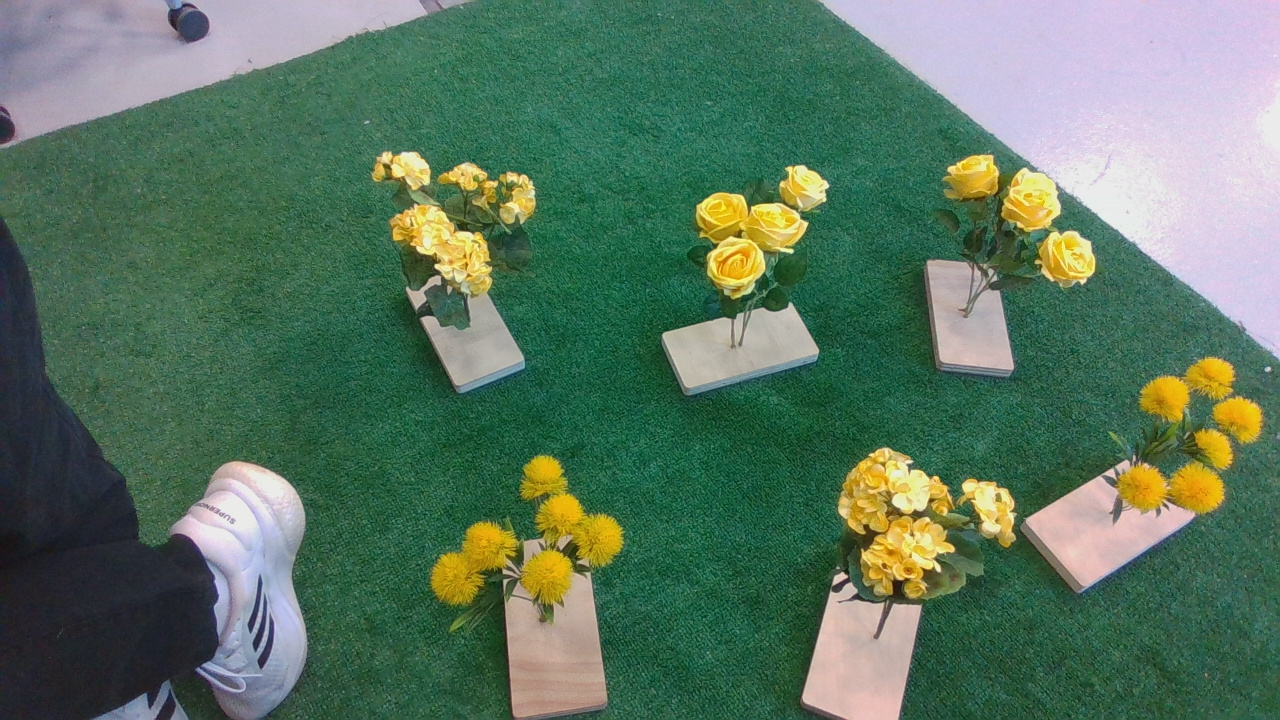dandelion: (427, 455, 639, 660), (1115, 346, 1278, 524)
geranium: (362, 146, 552, 338), (823, 447, 1029, 624)
rose: (932, 145, 1107, 312), (693, 159, 836, 323)
